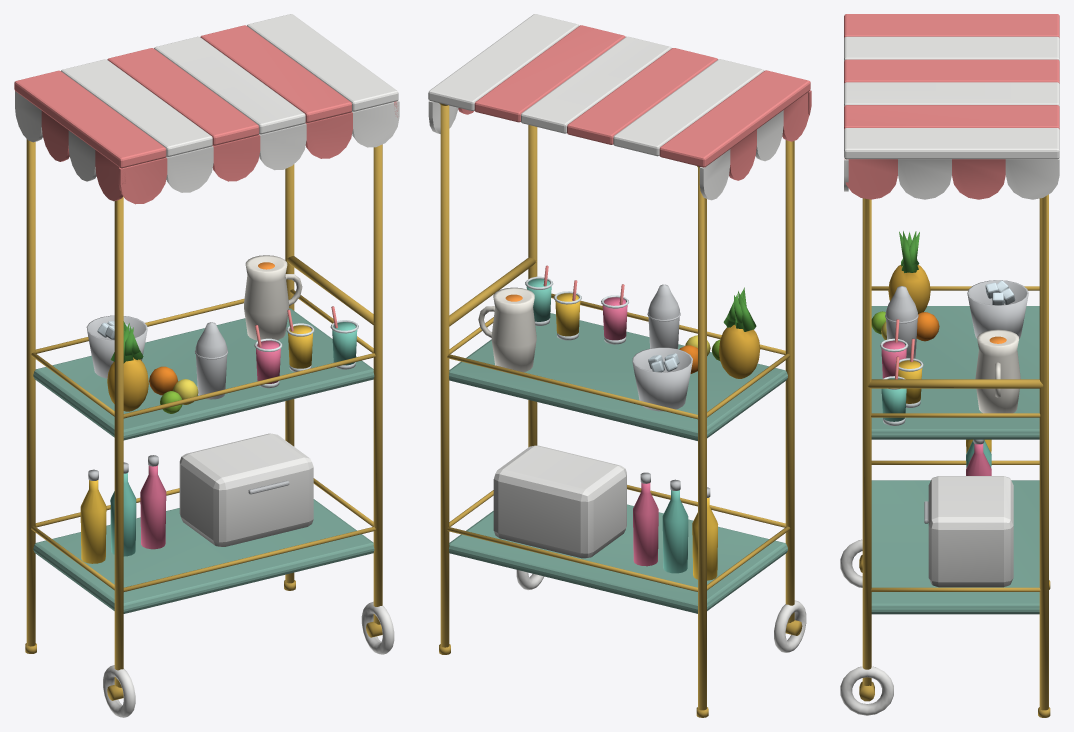
Rendered from mocktailCart.glb.
3 views of the same model, side by side, from view 1: azimuth 30°, elevation 25°; view 2: azimuth 150°, elevation 25°; view 3: azimuth 270°, elevation 25° (orthographic).
Visible parts, largest first — view 1: body, shaker; view 2: body, shaker; view 3: body, shaker.
Boxes of the visible parts, x1=… form: body: x1=14, y1=14, x2=399, y2=717; shaker: x1=194, y1=322, x2=228, y2=399; body: x1=428, y1=14, x2=811, y2=717; shaker: x1=647, y1=284, x2=680, y2=348; body: x1=840, y1=14, x2=1059, y2=717; shaker: x1=885, y1=286, x2=918, y2=358.
Size of the model in its own units: 0.84 by 1.63 by 0.5699.
